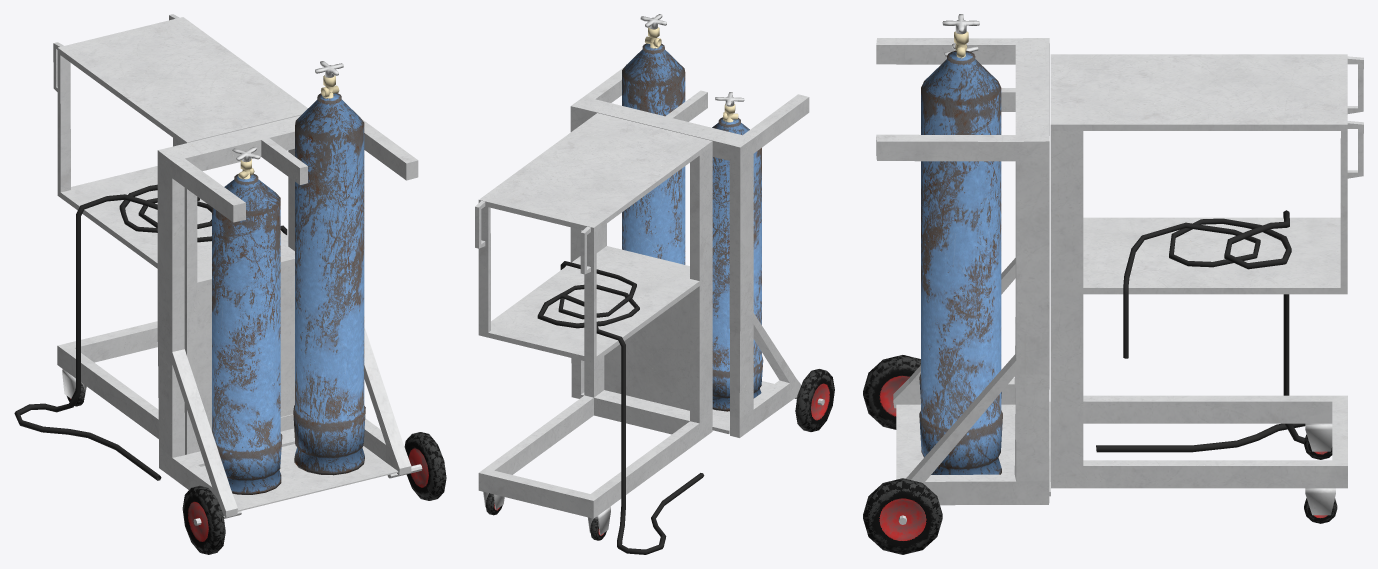
File: Welding Truck.fbx
3 views of the same model, side by side, from view 1: azimuth 30°, elevation 25°; view 2: azimuth 150°, elevation 25°; view 3: azimuth 270°, elevation 25° (orthographic). The views are drawn at different scales.
Parts seen in each view (by area): view 1: frame_low, balon_low, balon_low.001, Circle.012, smallWheel_low.001, smallWheel_low; view 2: frame_low, balon_low, balon_low.001, Circle.012, smallWheel_low.001; view 3: frame_low, balon_low, Circle.012, smallWheel_low, smallWheel_low.001.
Part boxes in pixels (x1=…): frame_low: x1=53, y1=14, x2=422, y2=525; balon_low: x1=293, y1=61, x2=365, y2=475; balon_low.001: x1=212, y1=147, x2=282, y2=494; Circle.012: x1=14, y1=184, x2=287, y2=480; smallWheel_low.001: x1=182, y1=485, x2=225, y2=554; smallWheel_low: x1=404, y1=432, x2=446, y2=500; frame_low: x1=475, y1=67, x2=824, y2=535; balon_low: x1=622, y1=14, x2=685, y2=264; balon_low.001: x1=712, y1=92, x2=763, y2=411; Circle.012: x1=537, y1=261, x2=704, y2=554; smallWheel_low.001: x1=795, y1=369, x2=834, y2=431; frame_low: x1=876, y1=38, x2=1363, y2=524; balon_low: x1=919, y1=14, x2=1002, y2=474; Circle.012: x1=1096, y1=210, x2=1305, y2=452; smallWheel_low: x1=863, y1=478, x2=942, y2=554; smallWheel_low.001: x1=863, y1=355, x2=920, y2=429.
Size of the model in its own units: 0.7112 by 1.22 by 1.12.
